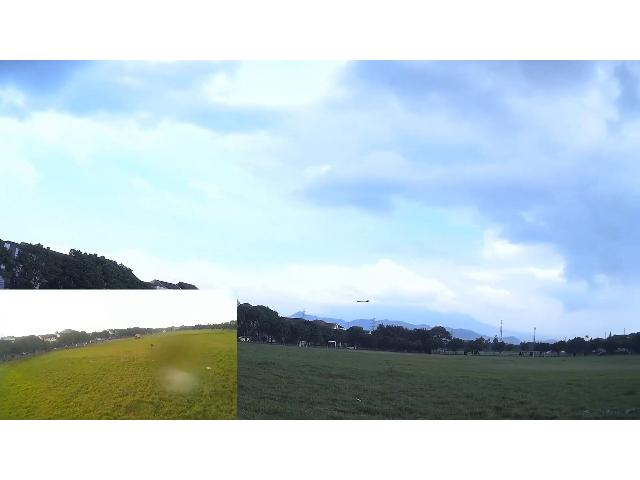Anti-Drone: (356, 300, 376, 302)
